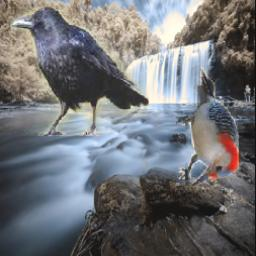Crow: (11, 6, 150, 136)
Woodpecker: (176, 67, 239, 186)
